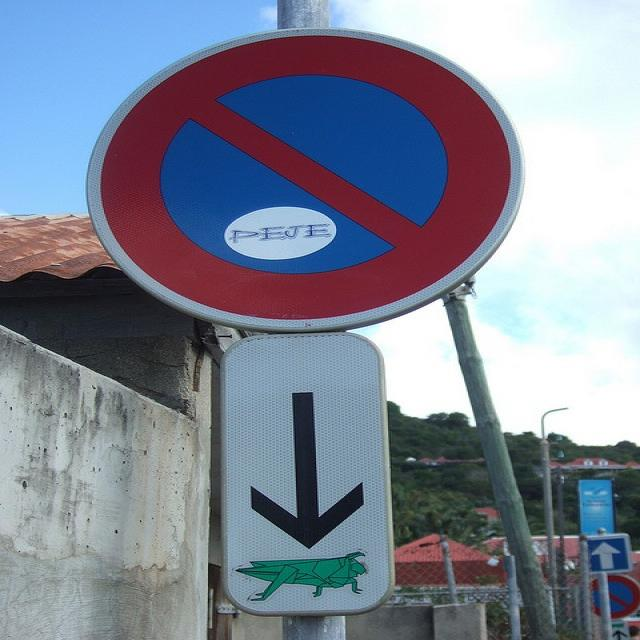pole: (450, 298, 550, 639)
